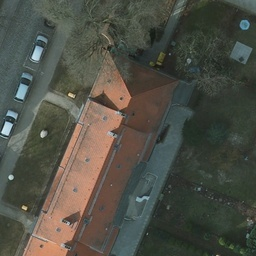car: (42, 0, 68, 30), (27, 34, 49, 64), (13, 72, 33, 102), (1, 110, 19, 138)
